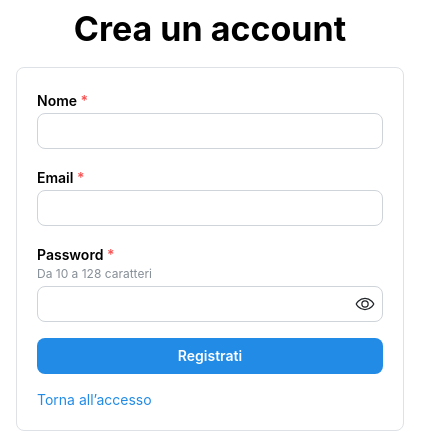
Test: signup shows its success state on an empty 201
Type "Ada" into the field labelled "Nome *" at (210, 131), box [37,113,383,149]
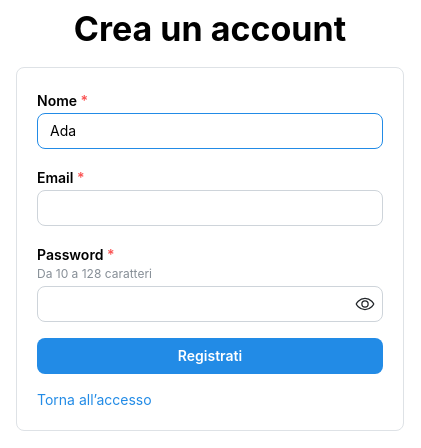
Type "a@b.it" into the field labelled "Email *" at (210, 208), box [37,190,383,226]
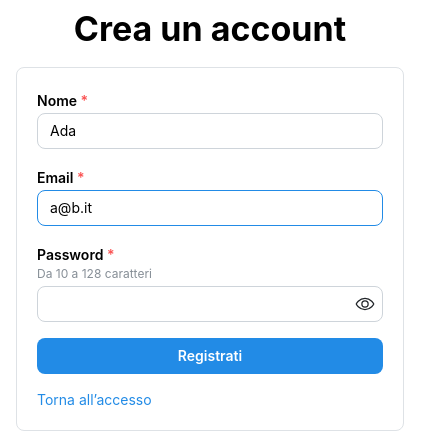
Type "supersecret1" into the password field labelled "Password *" at (210, 304), box [38,287,382,321]
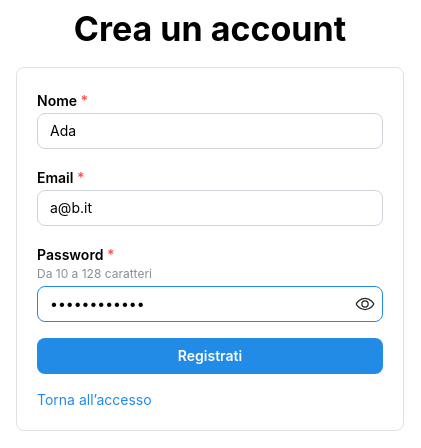
Click the button "Registrati" at (210, 356), box [37,338,383,374]
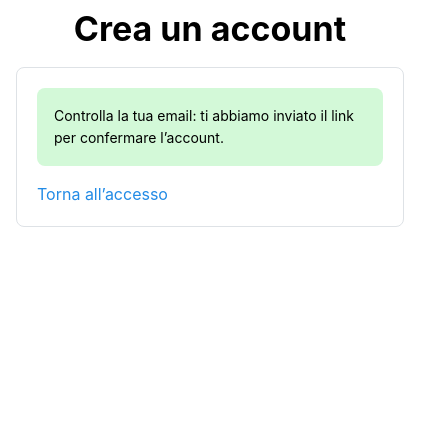
Result: the text "Controlla la tua email: ti abbiamo inviato il link per confermare l’account." is shown at [54,105,366,149]
